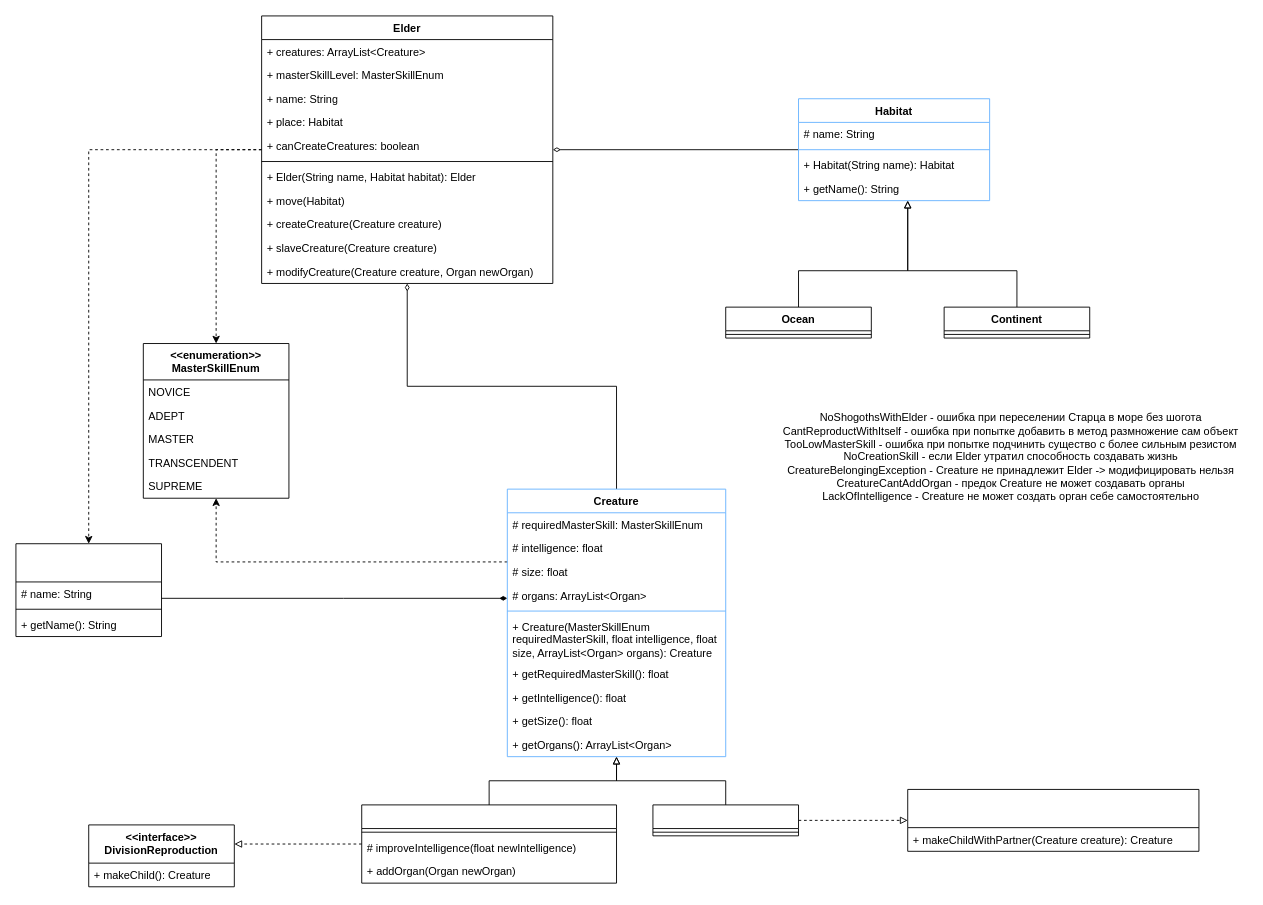
This 1263x905 diagram has some shape labels left out. Here are the shapes that lost their labels. From the top down, the box of each, then its label:
(15, 543, 162, 637): <<record>> Organ
(652, 804, 799, 836): Reptile
(907, 789, 1199, 851): <<interface>> PairReproduction
(361, 804, 617, 883): Shogoth
